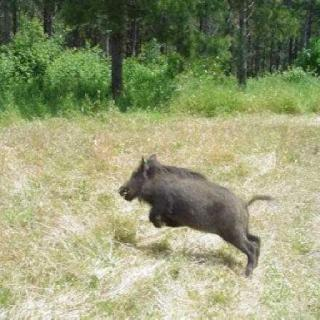Pig: (113, 144, 277, 288)
